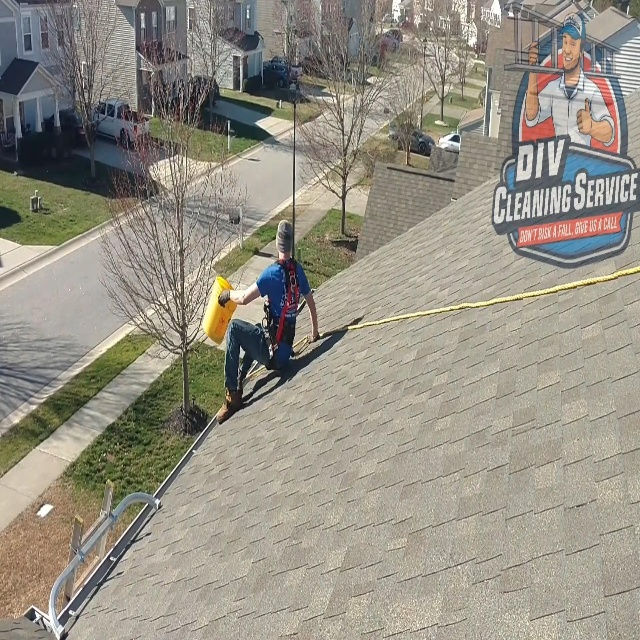Arnes_seguridad: (260, 256, 302, 380)
